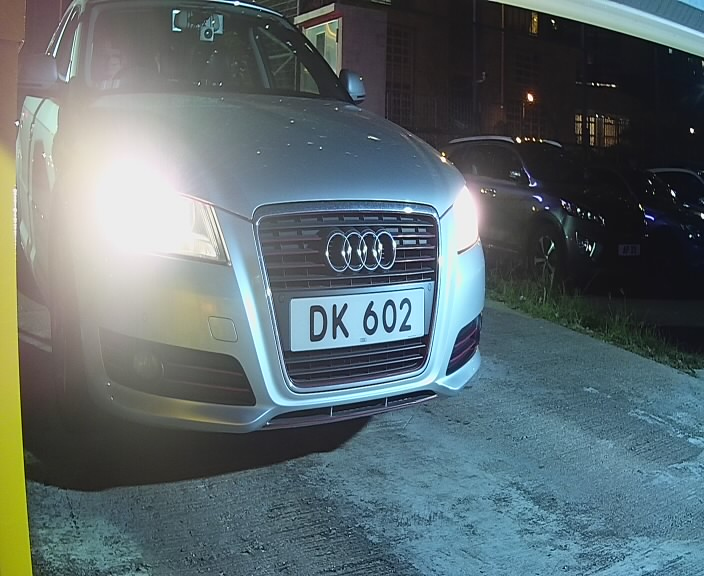Car: (27, 2, 505, 450)
License Plate: (282, 283, 436, 357)
